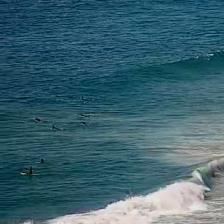surfer: (79, 112, 92, 117), (26, 166, 34, 174), (51, 125, 62, 130), (81, 97, 93, 101), (35, 117, 42, 122), (81, 121, 87, 126), (40, 158, 44, 164)
